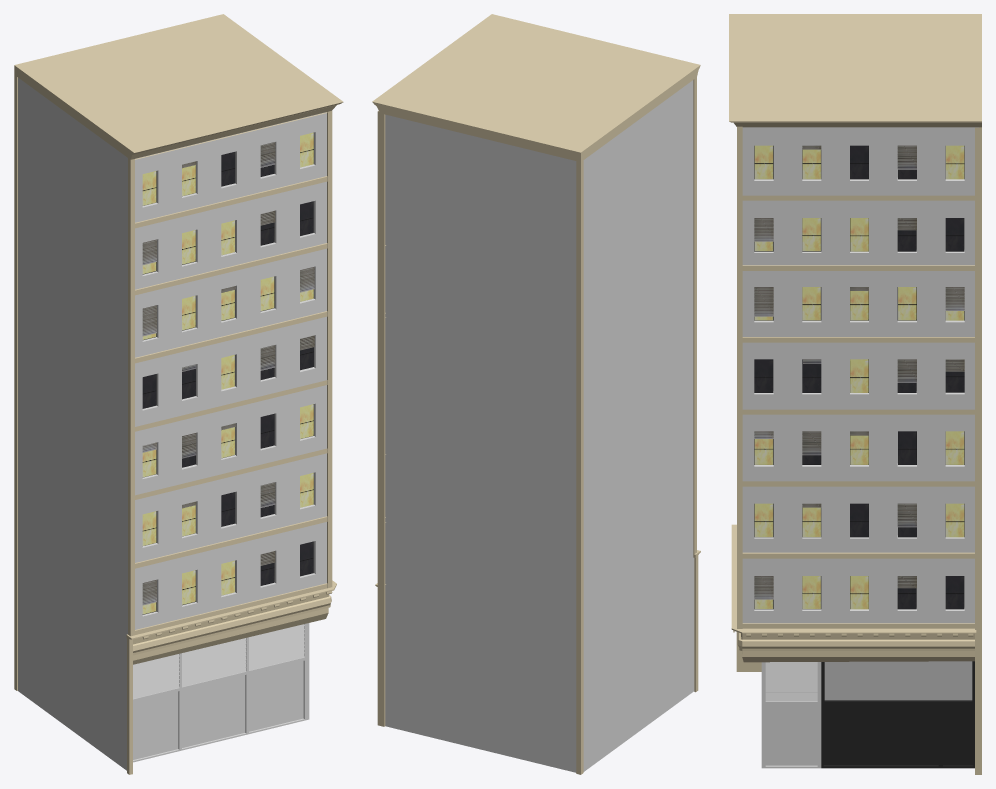
The model's file is Bloc_027A.fbx.
3 views of the same model, side by side, from view 1: azimuth 30°, elevation 25°; view 2: azimuth 150°, elevation 25°; view 3: azimuth 270°, elevation 25° (orthographic). The views are drawn at different scales.
Visible parts, largest first — view 1: Bloc_27A; view 2: Bloc_27A; view 3: Bloc_27A.
Part boxes in pixels (box(x1,y1,x2,y2)): Bloc_27A: box(14, 14, 343, 774); Bloc_27A: box(372, 14, 700, 774); Bloc_27A: box(729, 14, 981, 774).
Size of the model in its own units: 953 by 2729 by 964.
